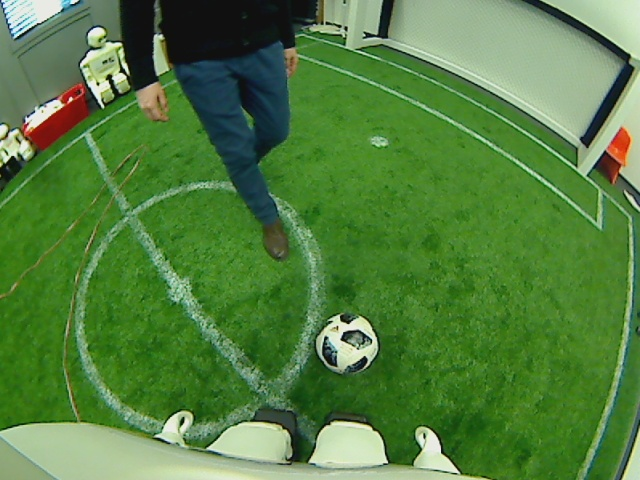ball: (313, 309, 379, 376)
